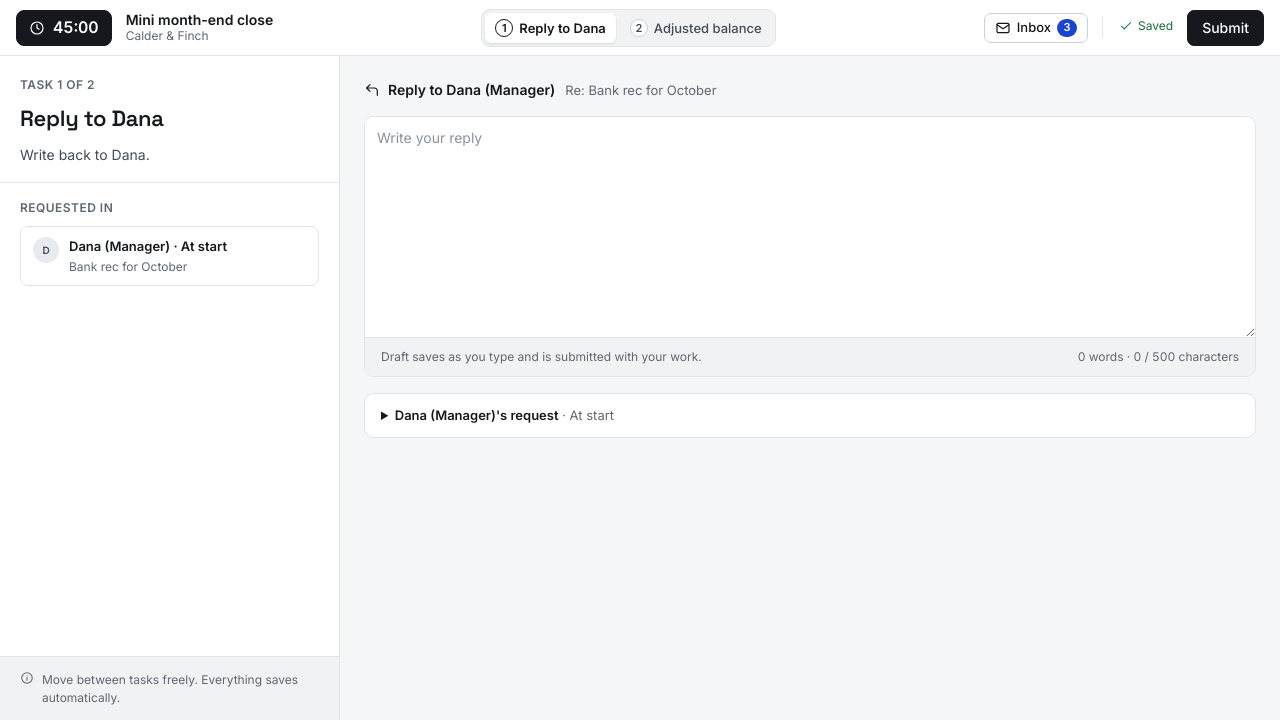
it: autosave › shows an error when offline, and recovers on the next good save
Later steps or results of the test are not shown.
Type "x" into the text box labelled "reply". click: (810, 227)
box: [365,117,1255,337]
Wait 700 ms
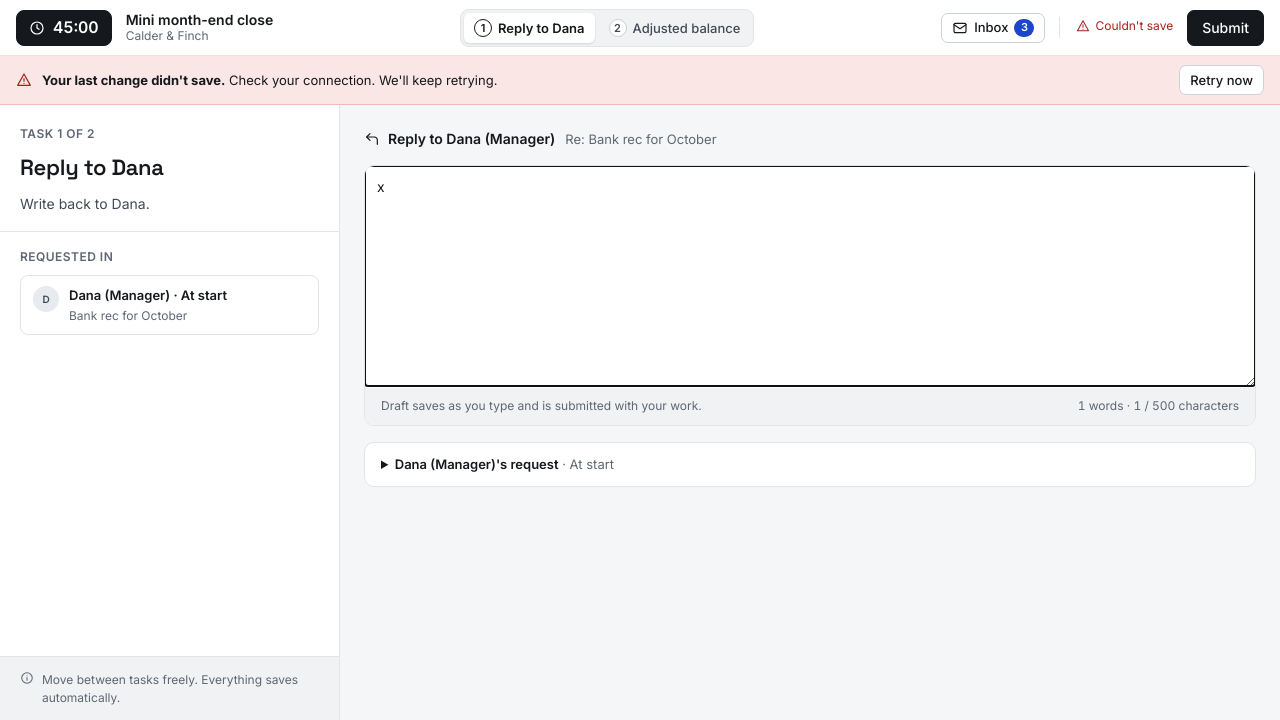
Now the element with test id "save-status" reads "Couldn't save", box [1095,18,1173,33]
Type "y" into the text box named "reply". click: (810, 276)
box: [365,166,1255,386]
Wait 700 ms
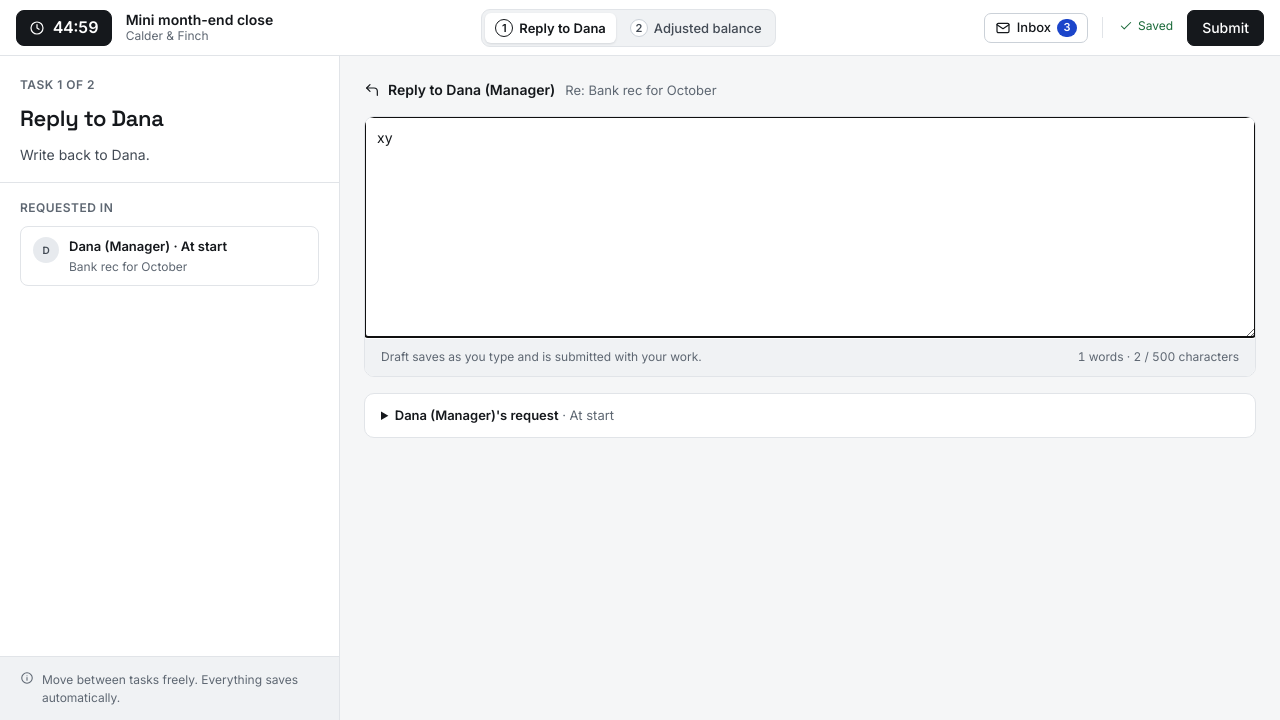
Now the element with test id "save-status" reads "Saved", box [1138,18,1173,33]
